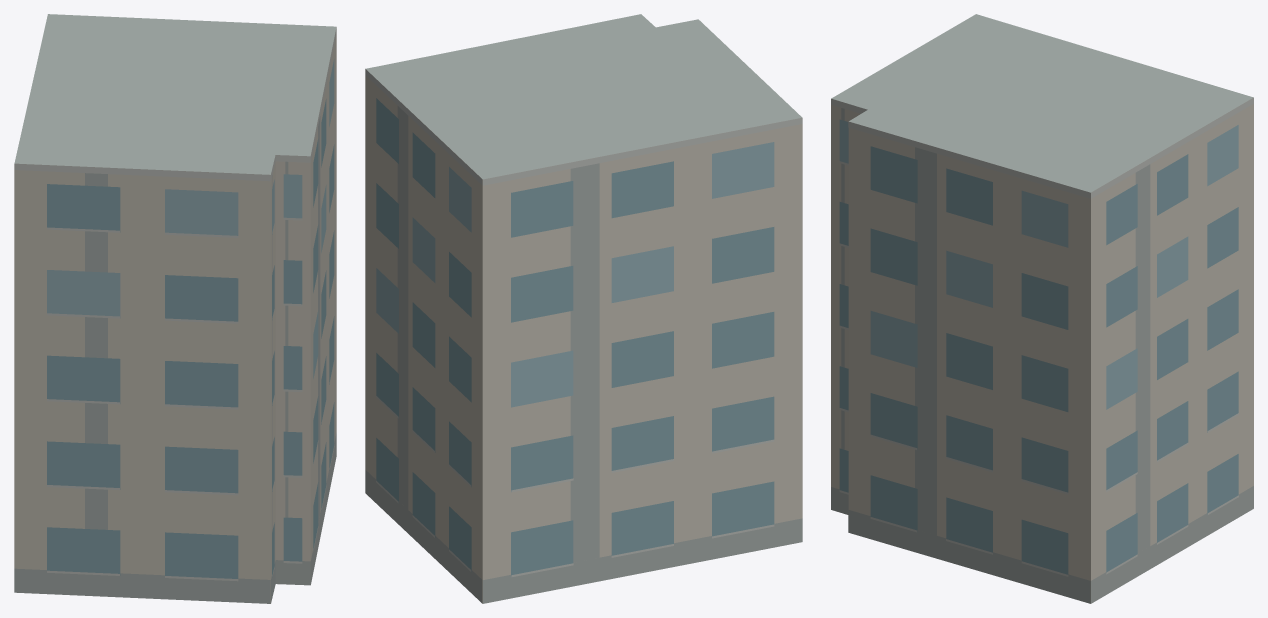
File: survey-upis-32965294.glb
3 renders of one model, left to right at view 1: azimuth 30°, elevation 25°; view 2: azimuth 150°, elevation 25°; view 3: azimuth 270°, elevation 25°, orthographic. The views are drawn at different scales.
Parts seen in each view (by area): view 1: survey-upis-32965294.tmp; view 2: survey-upis-32965294.tmp; view 3: survey-upis-32965294.tmp.
Part boxes in pixels (x1=…): survey-upis-32965294.tmp: x1=14, y1=14, x2=336, y2=603; survey-upis-32965294.tmp: x1=365, y1=14, x2=802, y2=603; survey-upis-32965294.tmp: x1=831, y1=14, x2=1253, y2=603.
Bounding box in the file's own units: 15.2 × 16.3 × 15.19.
